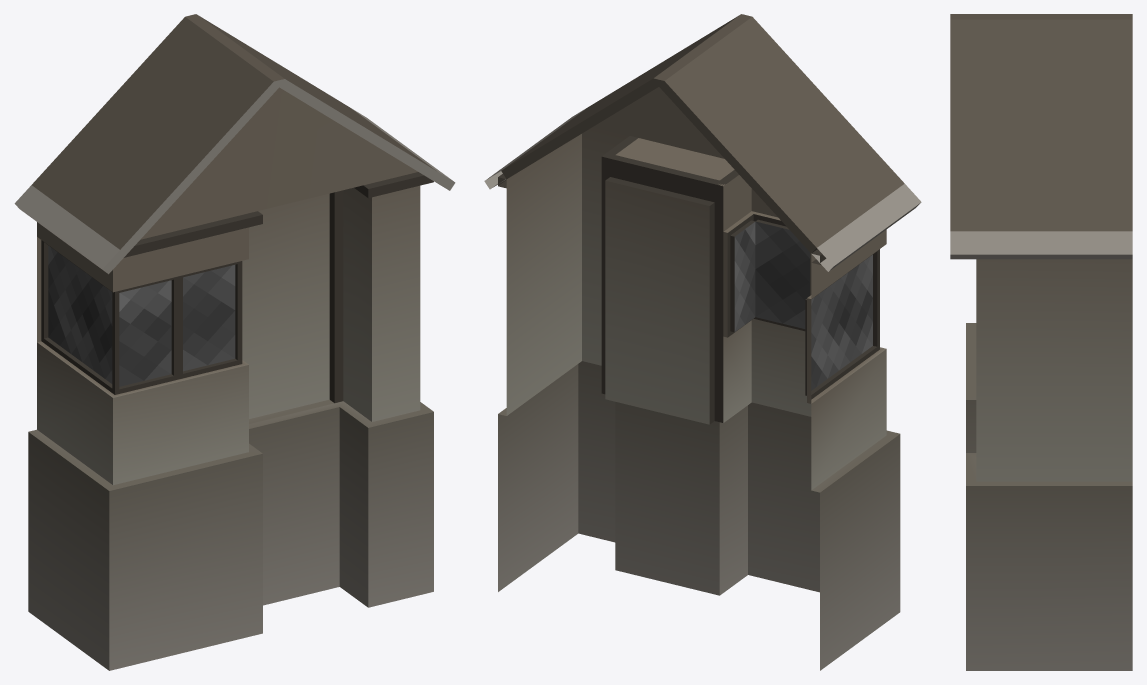
The model's file is Front_C.fbx.
The picture shows the model from 3 angles, left to right: view 1: azimuth 30°, elevation 25°; view 2: azimuth 150°, elevation 25°; view 3: azimuth 270°, elevation 25°; orthographic projection. The views are drawn at different scales.
Parts seen in each view (by area): view 1: Front_C; view 2: Front_C; view 3: Front_C.
Boxes of the visible parts, x1,y1,x2,y2 form: Front_C: (14,14,455,670); Front_C: (484,14,921,670); Front_C: (950,14,1132,670).
Bounding box in the file's own units: 401 × 606 × 175.
